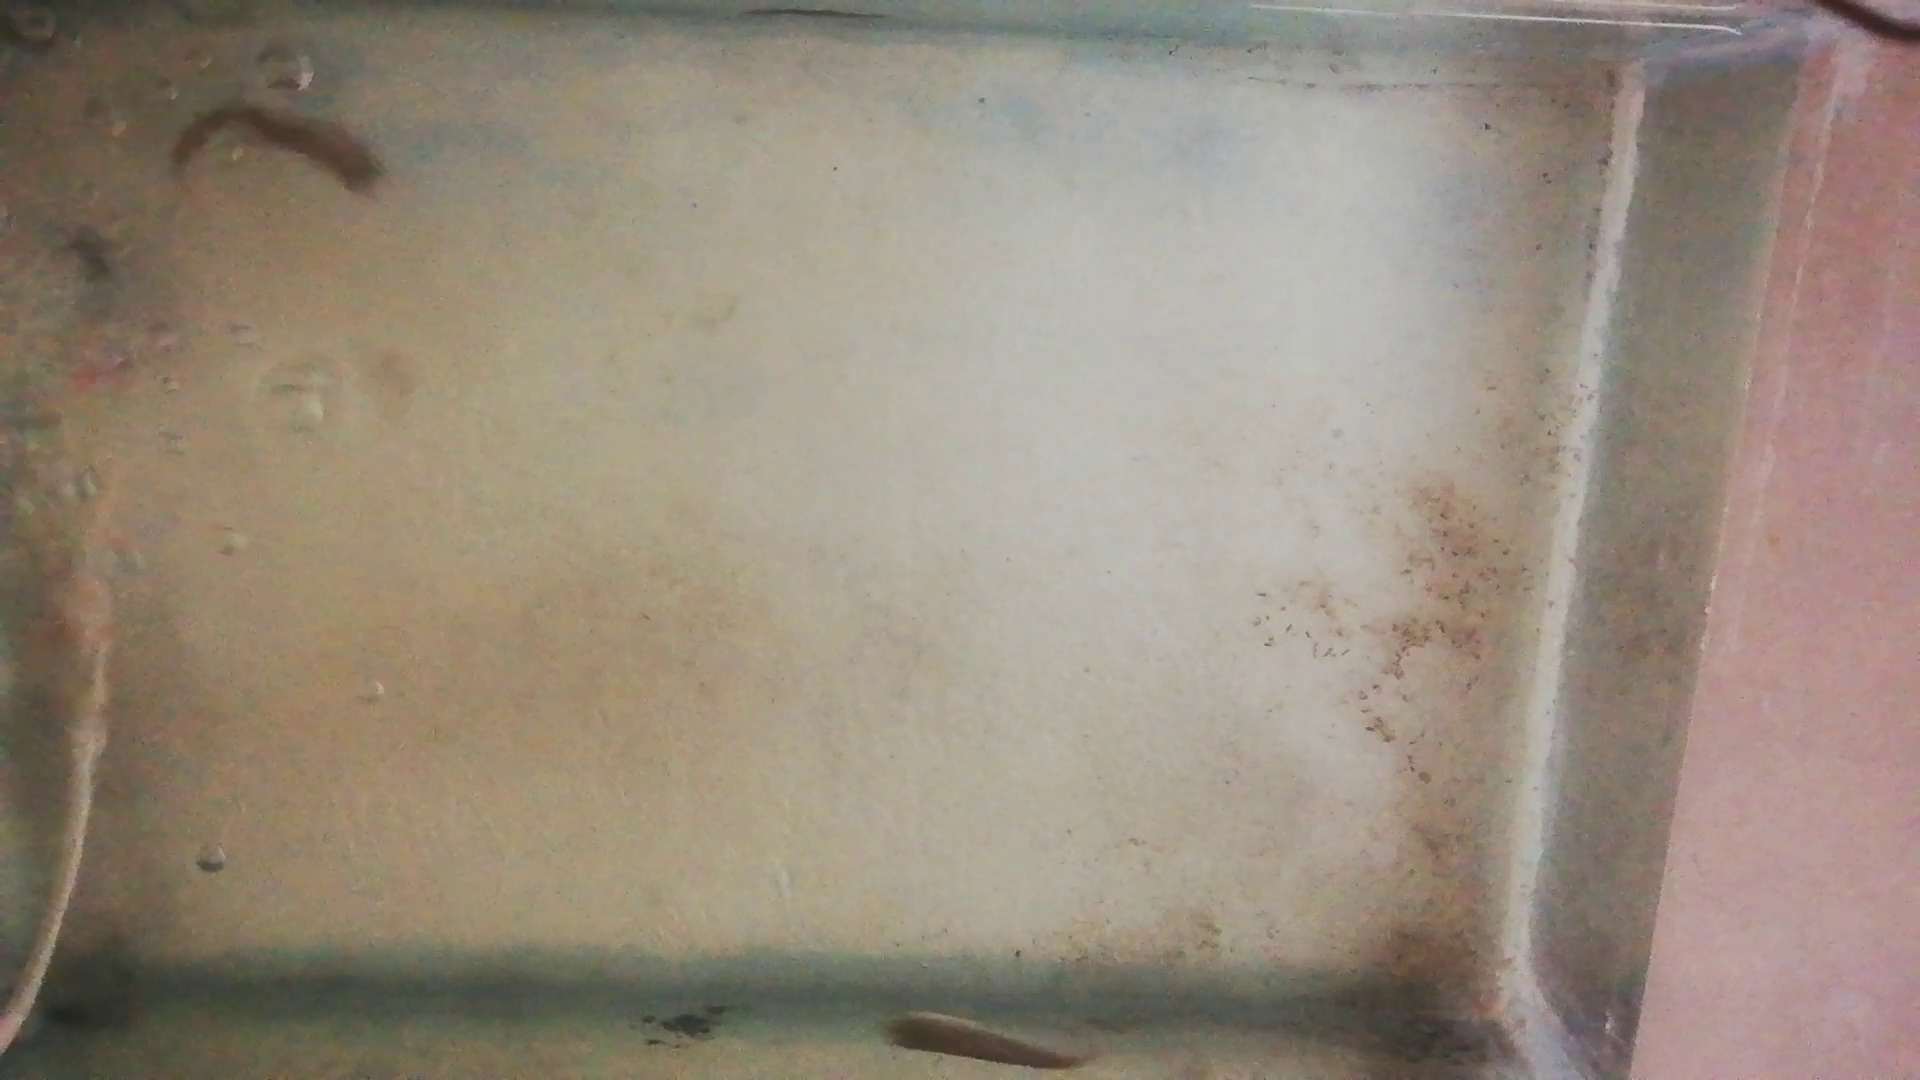fish: (173, 104, 386, 206), (876, 1007, 1084, 1069)
